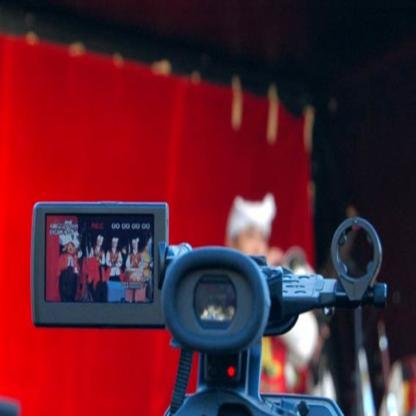Camera: (34, 199, 392, 416)
